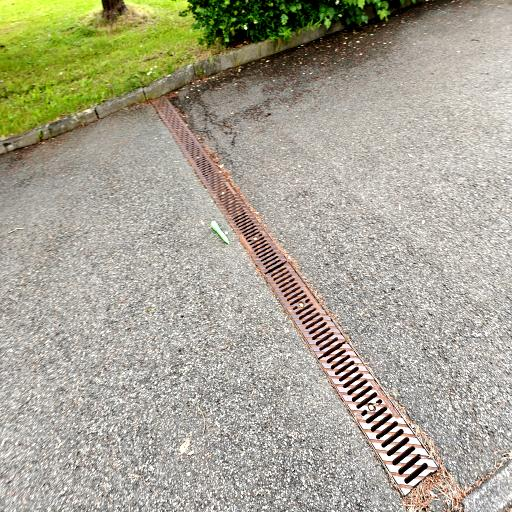Probe-Detection: (210, 221, 229, 244)
